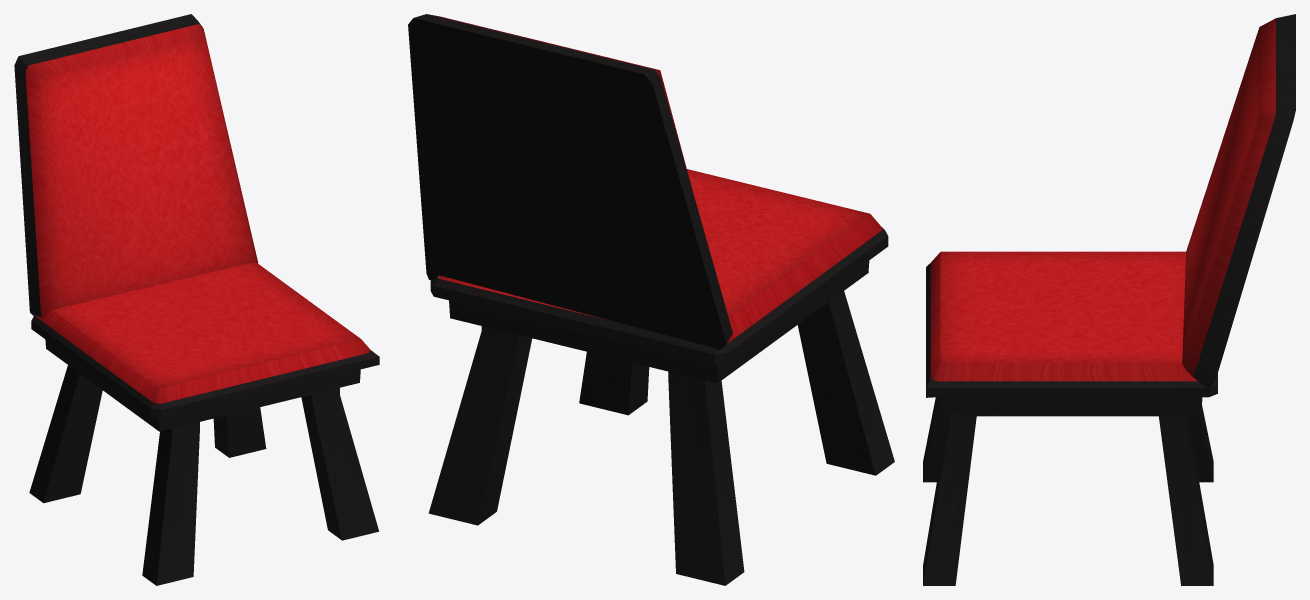
File: Dining_Room_Chair_E.FBX
The picture shows the model from 3 angles, left to right: view 1: azimuth 30°, elevation 25°; view 2: azimuth 150°, elevation 25°; view 3: azimuth 270°, elevation 25°; orthographic projection. The views are drawn at different scales.
Parts seen in each view (by area): view 1: Dining_Chair; view 2: Dining_Chair; view 3: Dining_Chair.
Boxes of the visible parts, x1,y1,x2,y2 form: Dining_Chair: [14, 14, 379, 585]; Dining_Chair: [408, 14, 894, 585]; Dining_Chair: [923, 14, 1295, 585].
Size of the model in its own units: 121 by 208 by 152.
